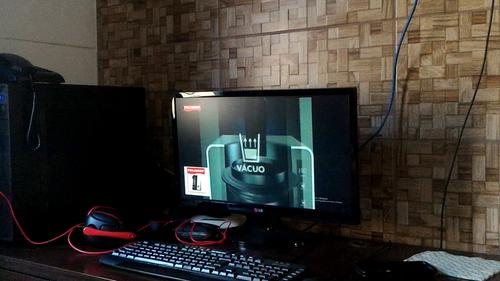Polishop #1: (185, 165, 211, 196)
